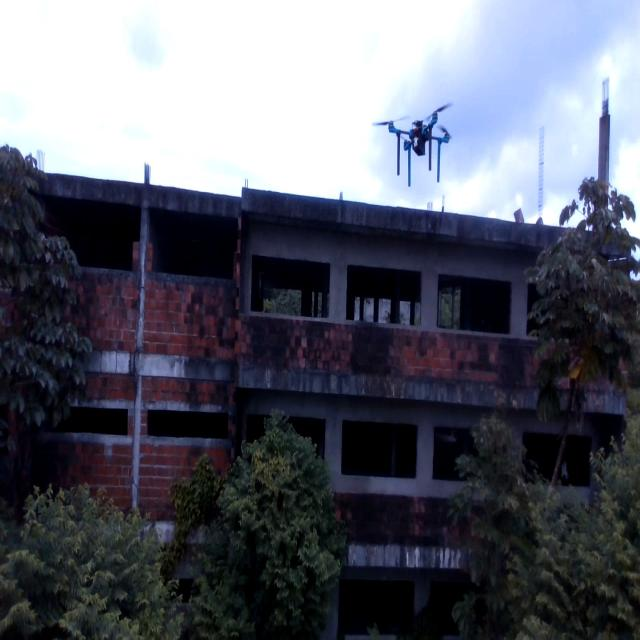-uav-: (372, 89, 460, 197)
